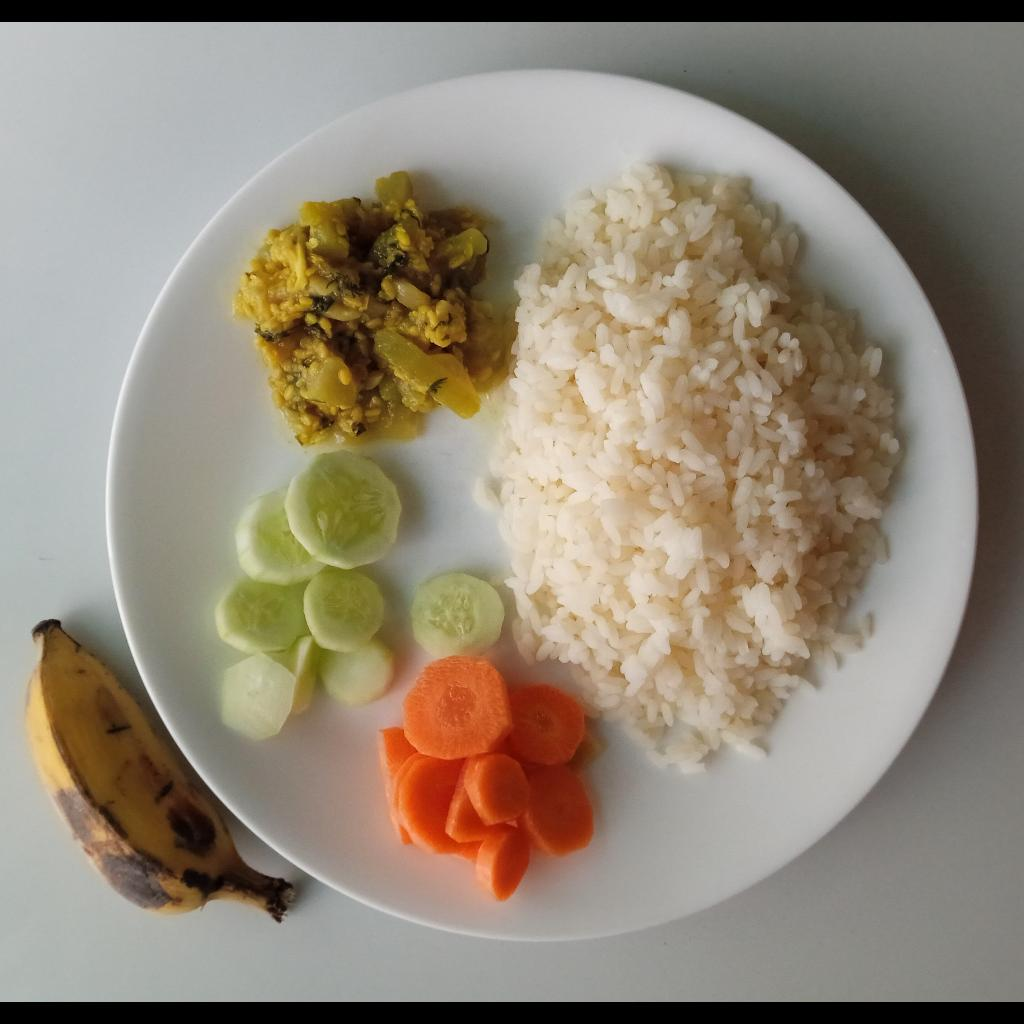banana: (24, 619, 295, 927)
carrot: (375, 654, 605, 903)
cucumber: (215, 451, 404, 741), (409, 572, 506, 659)
lau: (228, 174, 515, 451)
rice: (471, 170, 904, 776)
